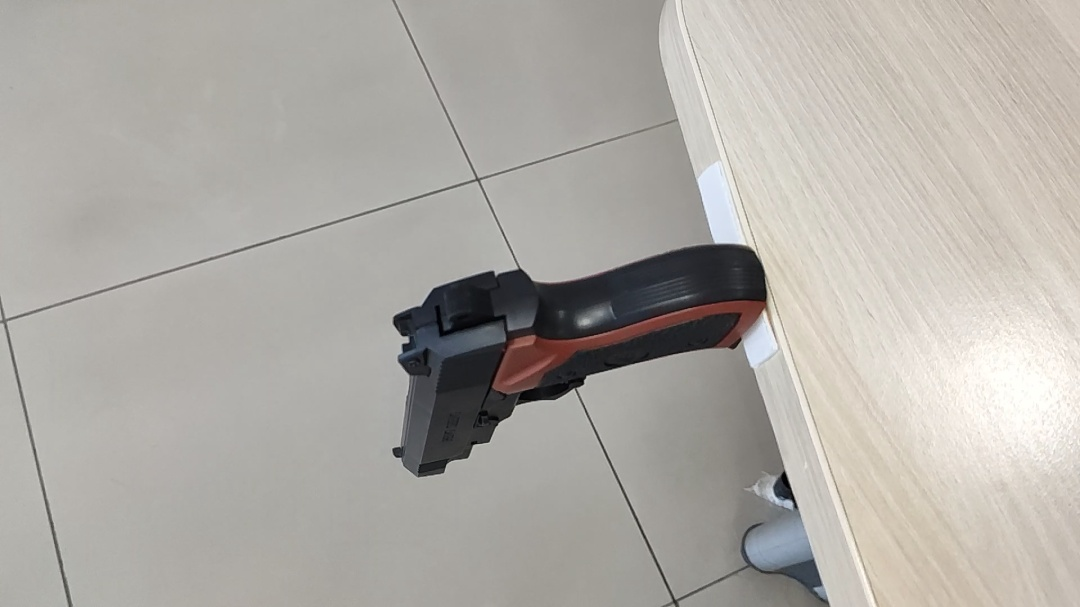gun: (349, 267, 497, 350)
